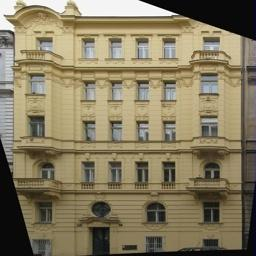building: (10, 0, 243, 256)
